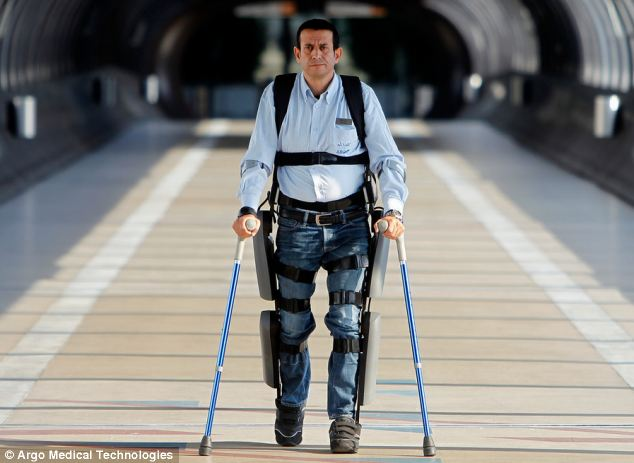feet: (257, 371, 371, 458)
